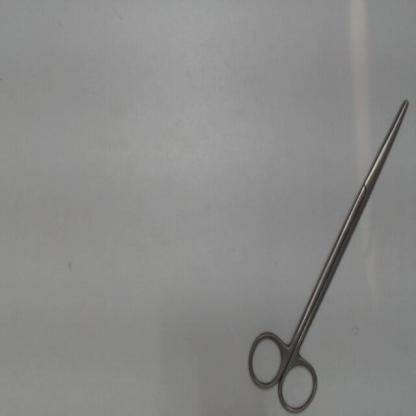9 Metzenbaum Scissors: (242, 90, 414, 415)
